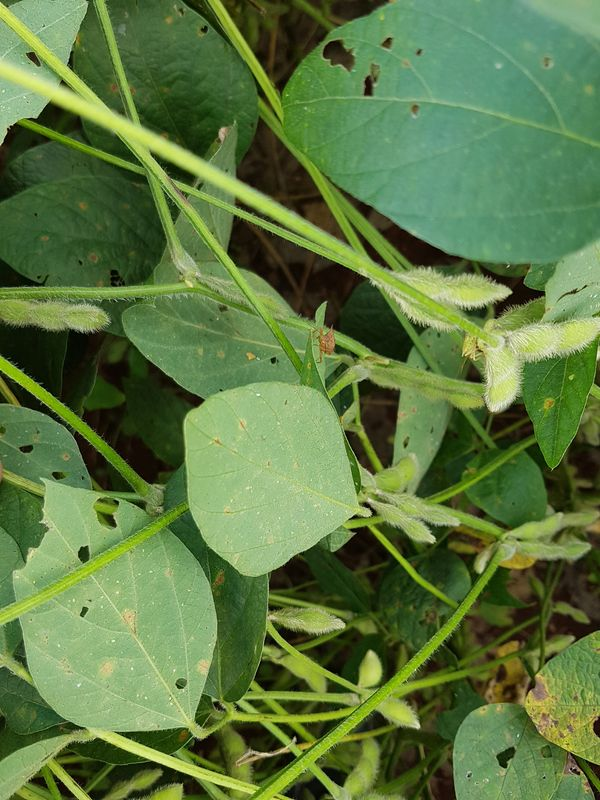Euschistus_heros_adulto: (307, 322, 344, 366)
